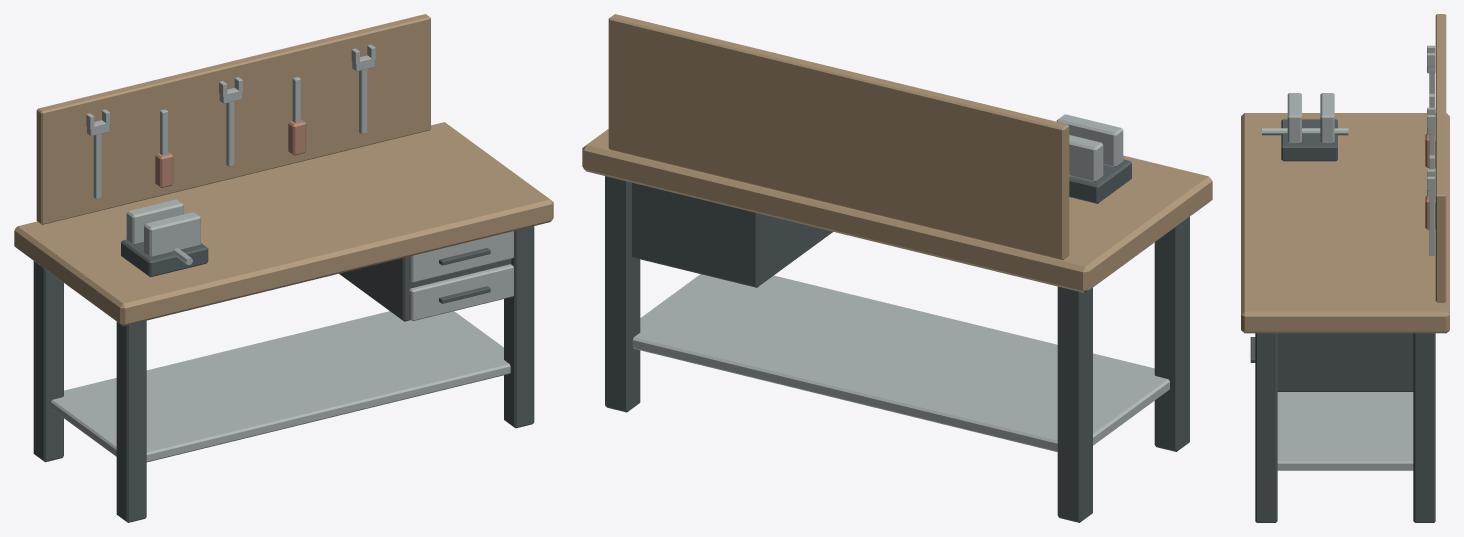
File: workbench.fbx
The picture shows the model from 3 angles, left to right: view 1: azimuth 30°, elevation 25°; view 2: azimuth 150°, elevation 25°; view 3: azimuth 270°, elevation 25°; orthographic projection. The views are drawn at different scales.
Parts seen in each view (by area): view 1: workbench; view 2: workbench; view 3: workbench.
Boxes of the visible parts, left/top/right/bottom form: workbench: left=14, top=14, right=553, bottom=522; workbench: left=582, top=14, right=1212, bottom=522; workbench: left=1241, top=14, right=1449, bottom=522.
Size of the model in its own units: 1.6 by 1.2 by 0.7.
